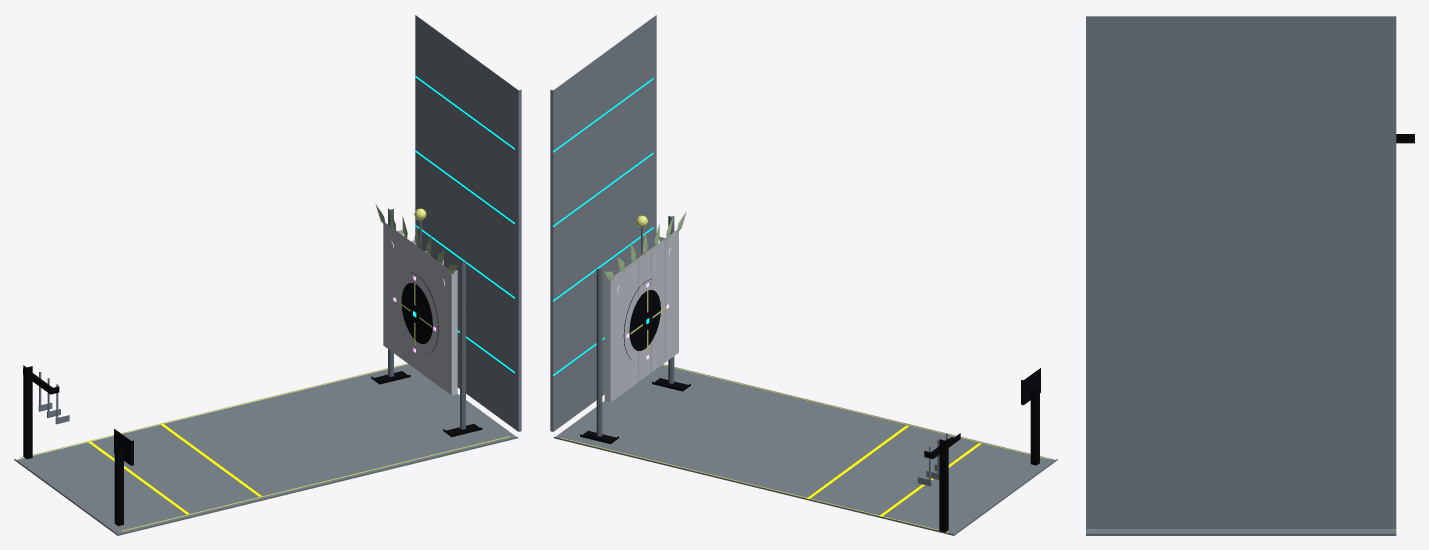
Rendered from tt_axe_bay_s.glb.
3 renders of one model, left to right at view 1: azimuth 30°, elevation 25°; view 2: azimuth 150°, elevation 25°; view 3: azimuth 270°, elevation 25°, orthographic. The views are drawn at different scales.
Parts seen in each view (by area): view 1: Floor_Mat, Wall_Lining, Target_Boards, Target_Rings, Court_Inlay, Target_Posts, Rack_Post, Lining_Reveal, Tablet_Post, Throw_Lines; view 2: Floor_Mat, Wall_Lining, Target_Boards, Target_Rings, Target_Posts, Court_Inlay, Rack_Post, Lining_Reveal, Tablet_Post, Throw_Lines; view 3: Wall_Lining, Floor_Mat.
Boxes of the visible parts, x1,y1,x2,y2 form: Floor_Mat: [14, 364, 518, 535]; Wall_Lining: [415, 15, 521, 431]; Target_Boards: [383, 223, 457, 395]; Target_Rings: [401, 272, 438, 353]; Court_Inlay: [20, 363, 510, 531]; Target_Posts: [388, 208, 465, 429]; Rack_Post: [23, 365, 32, 459]; Lining_Reveal: [415, 75, 514, 373]; Tablet_Post: [114, 447, 123, 526]; Throw_Lines: [87, 423, 261, 514]; Floor_Mat: [553, 364, 1057, 535]; Wall_Lining: [550, 15, 656, 431]; Target_Boards: [604, 230, 678, 402]; Target_Rings: [623, 279, 660, 359]; Target_Posts: [596, 216, 674, 436]; Court_Inlay: [560, 364, 1048, 532]; Rack_Post: [939, 438, 948, 532]; Lining_Reveal: [553, 78, 653, 375]; Tablet_Post: [1030, 387, 1039, 465]; Throw_Lines: [806, 425, 981, 516]; Wall_Lining: [1086, 16, 1396, 528]; Floor_Mat: [1086, 529, 1396, 535].
Size of what is drawn, in the model's own units: 6.8 by 5.6 by 3.2.
12 materials, 5 textured.
